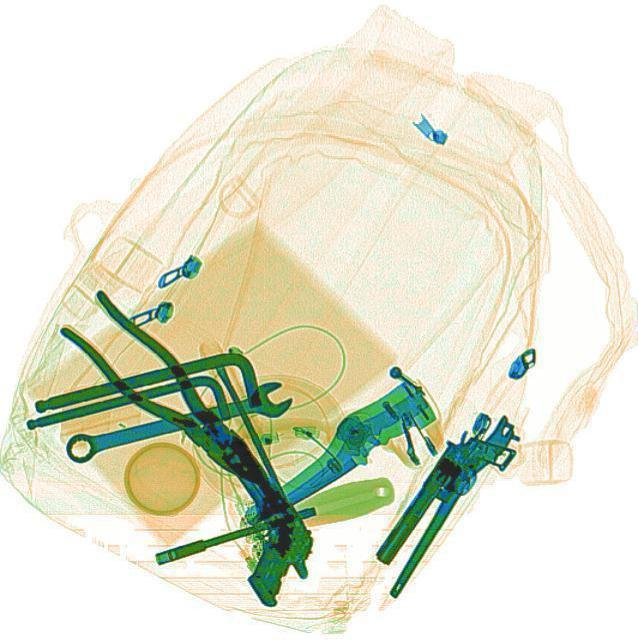Gun: (160, 424, 336, 610), (364, 417, 515, 587)
Pliers: (50, 286, 287, 504)
Wrench: (60, 375, 297, 463)
